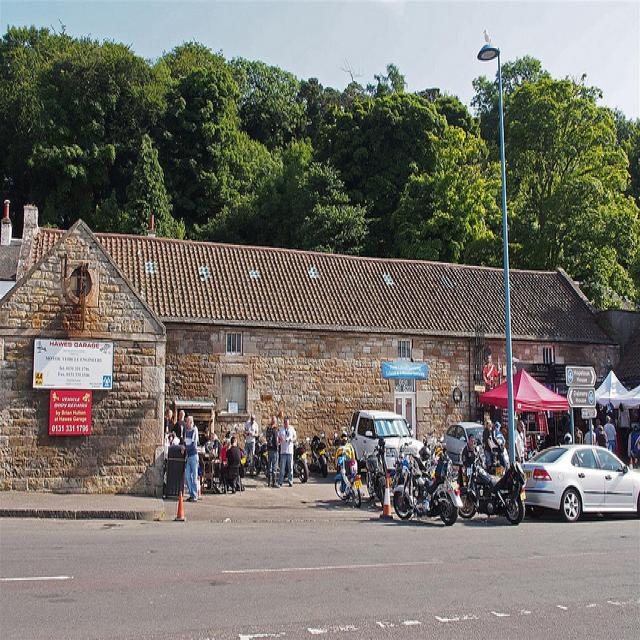motor: (460, 449, 531, 525), (393, 453, 464, 527), (360, 448, 386, 508), (334, 454, 362, 508), (308, 436, 328, 478), (253, 442, 270, 477), (293, 446, 309, 482), (491, 443, 510, 472), (416, 453, 436, 476)
